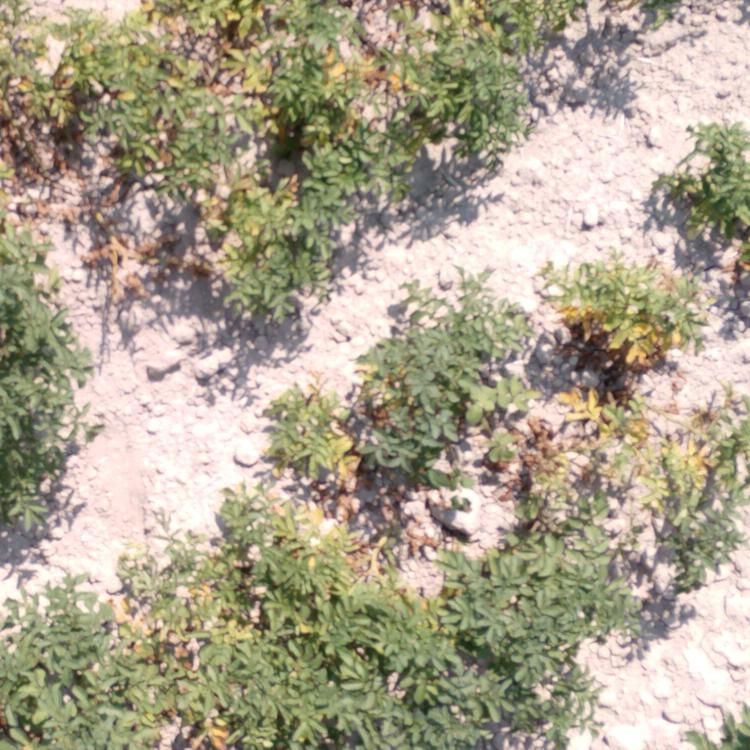healthy: (467, 552, 604, 693), (1, 234, 64, 499), (17, 610, 120, 737), (374, 633, 457, 742), (404, 285, 521, 362), (722, 121, 750, 197)
stressed: (123, 504, 351, 736), (11, 9, 277, 153), (510, 391, 745, 551), (303, 5, 548, 137), (167, 172, 351, 298), (552, 256, 720, 362), (550, 254, 718, 360), (266, 373, 405, 497)
